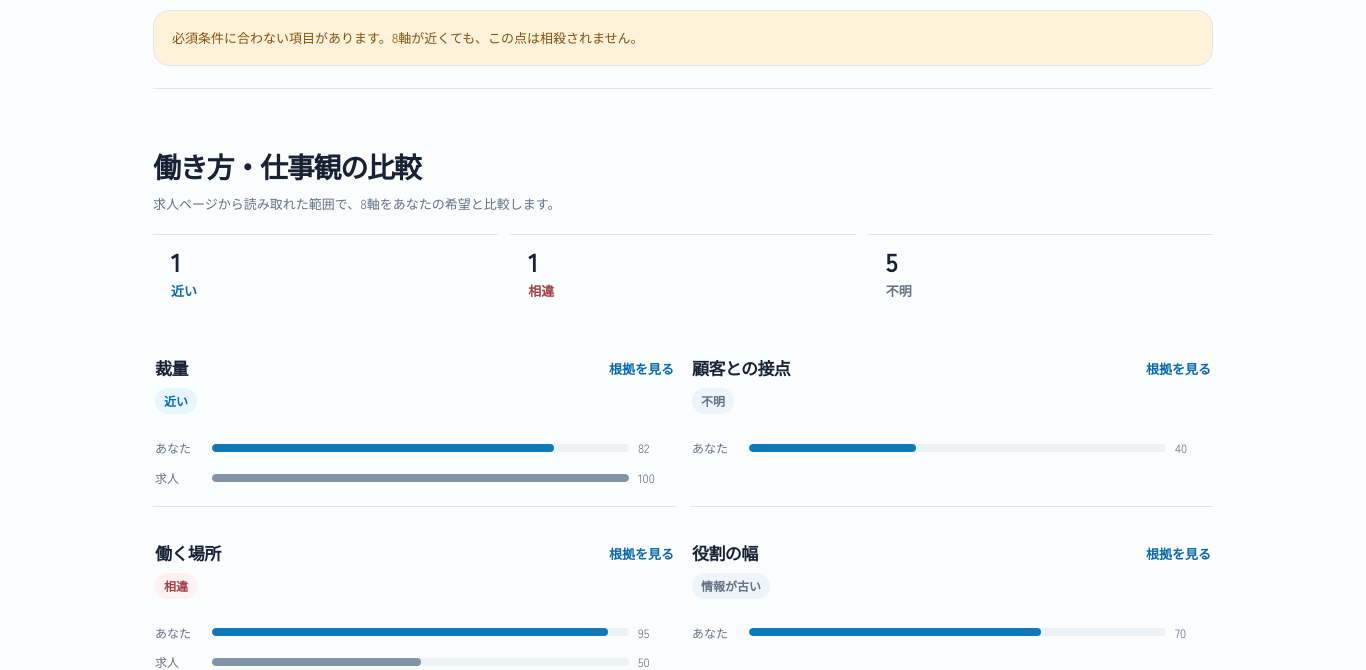
Test: evidence shows the source link and fetch time
(page scrolled)
Click the button "裁量 近い 根拠を見る": (171, 368) [155, 354, 674, 414]
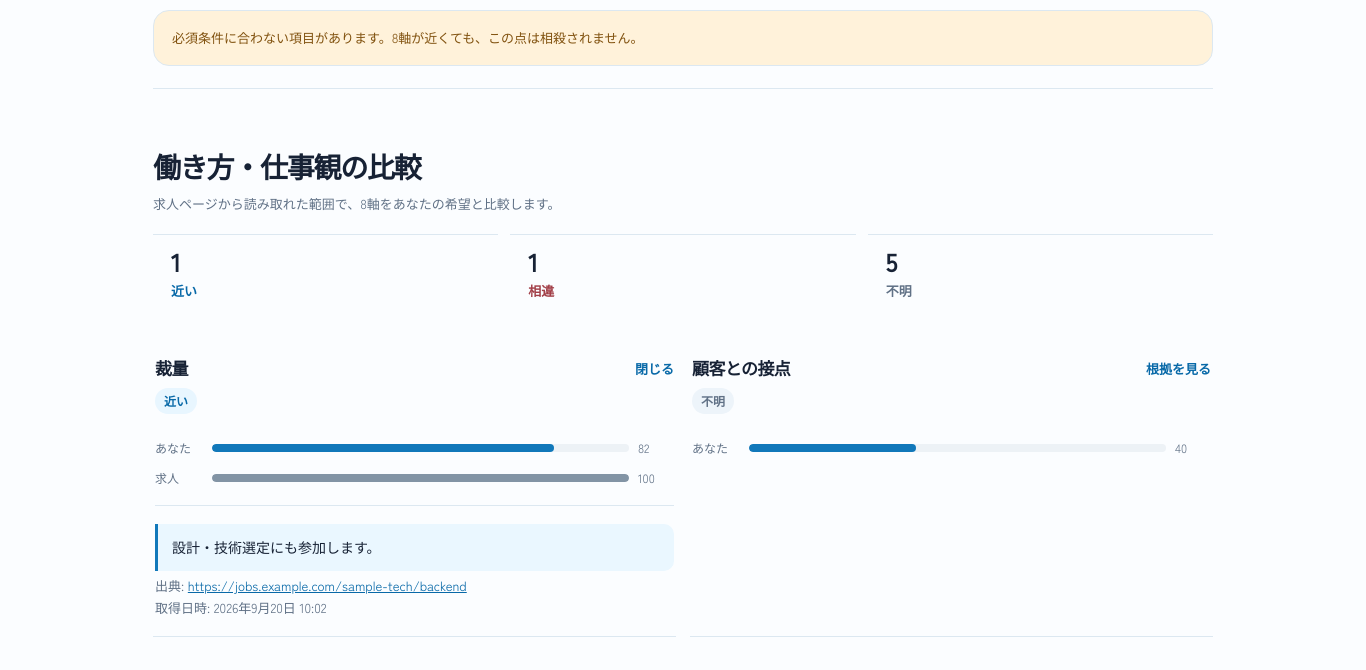
Check: the button "裁量 近い 閉じる" is expanded, box [155, 354, 674, 414]
Check: the text "設計・技術選定にも参加します。" is shown, box [155, 524, 674, 572]
Check: the text "取得日時: 2026年9月20日 10:02" is shown, box [155, 598, 326, 617]
